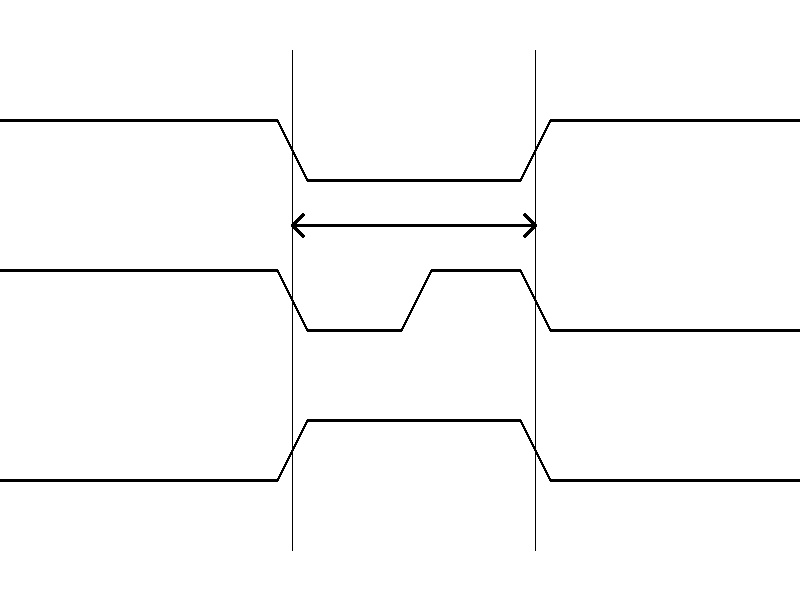double_arrow: (292, 210, 535, 240)
